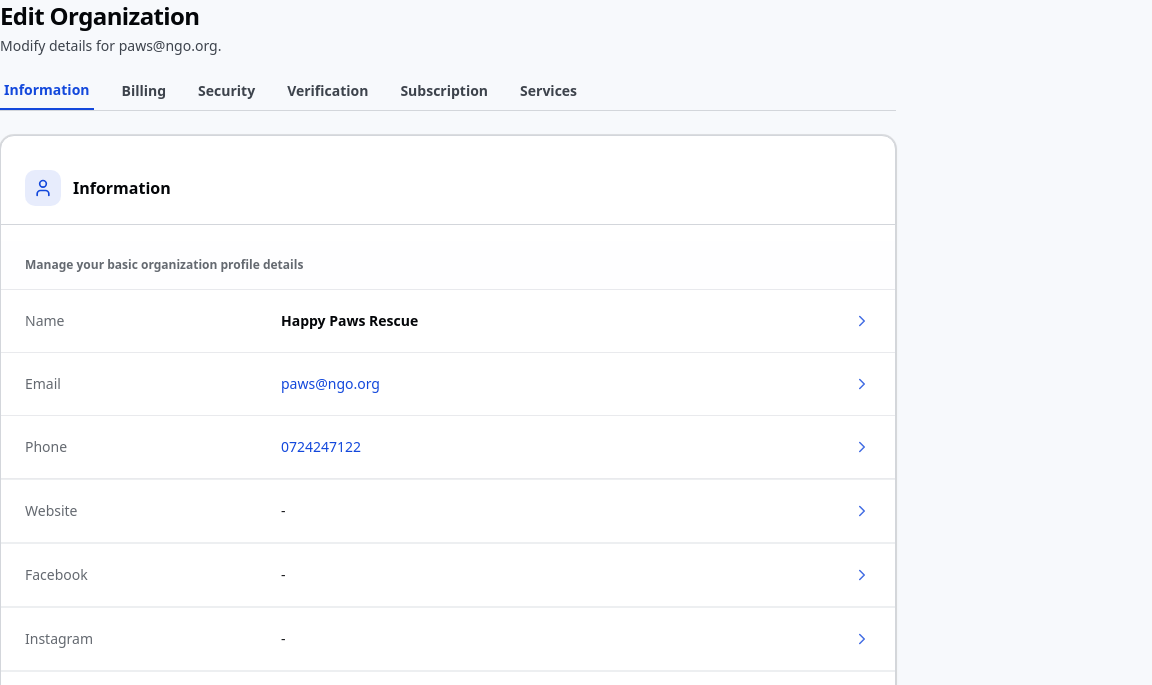
it: EditOrganizationForm Component › should render overview fields on their respective tabs
Check: the heading "Edit Organization" is shown, box [0, 0, 200, 32]
Check: the button "Information" is shown, box [0, 80, 94, 110]
// Switch to Billing tab to verify address
Click the button "Billing" at (144, 95), box [118, 80, 170, 110]
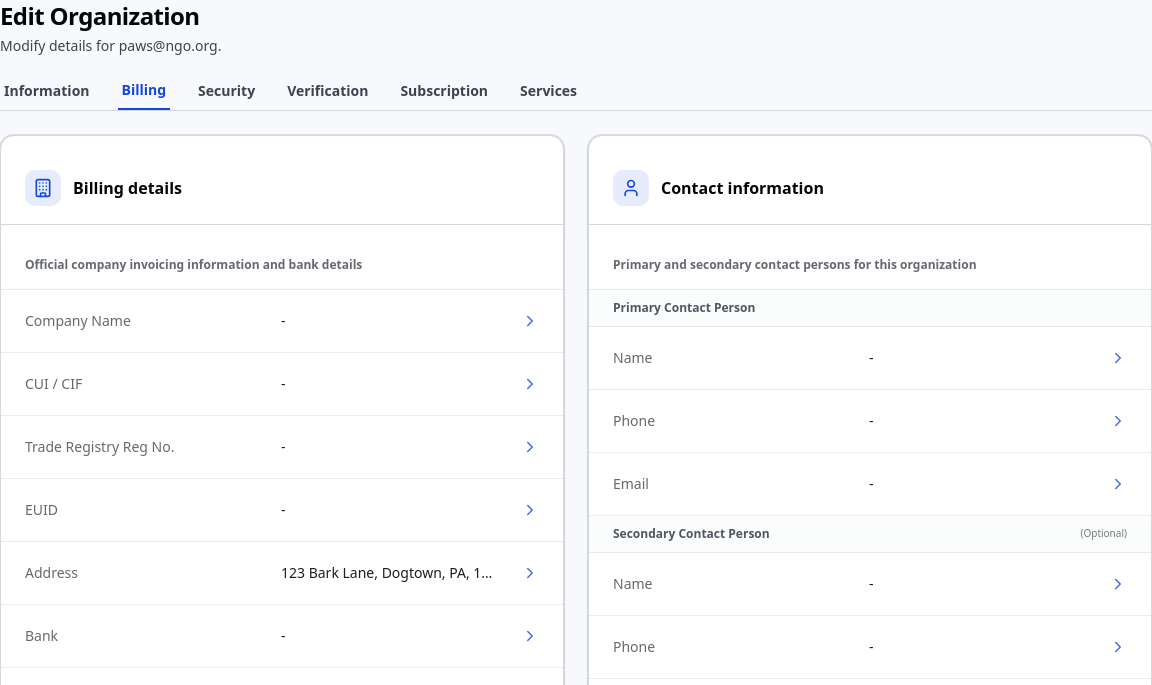
Check: the text "123 Bark Lane, Dogtown, PA, 19001, United States" is shown, box [281, 563, 499, 583]
// Switch to Security tab
Click the button "Security" at (227, 95), box [194, 80, 259, 110]
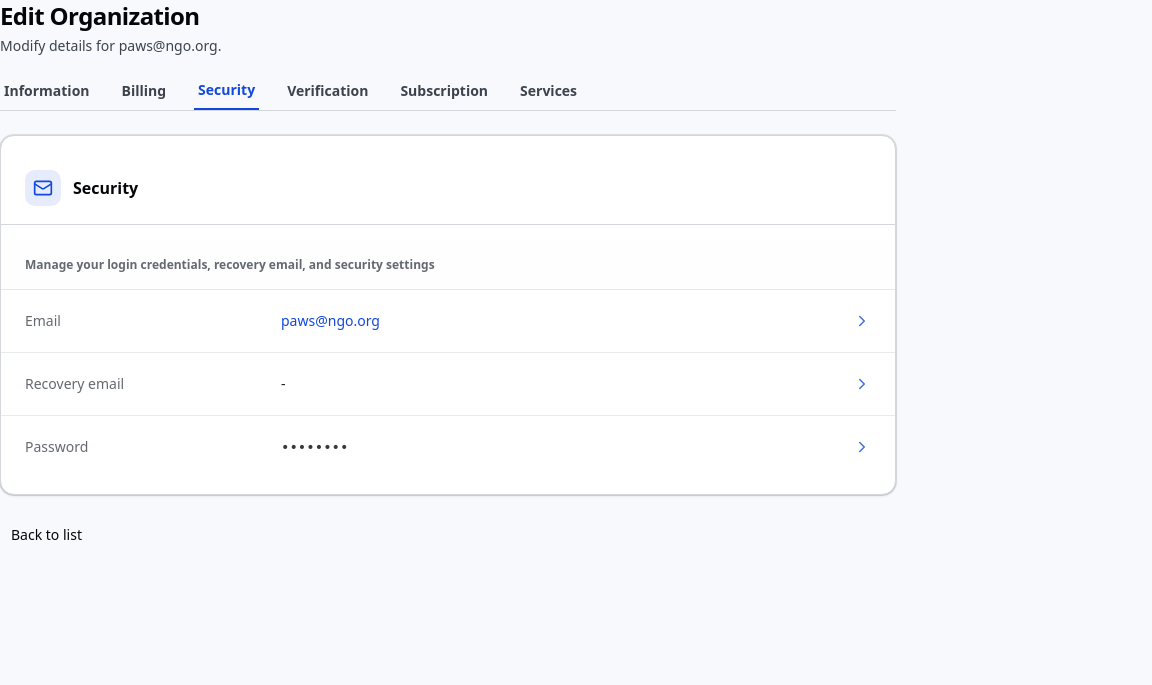
Check: the link "paws@ngo.org" is shown, box [281, 311, 380, 331]
